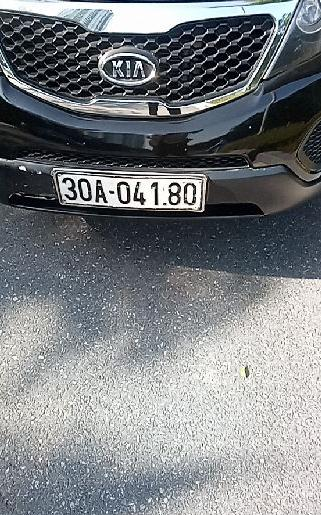Plate-iWeP: (56, 172, 205, 213)
